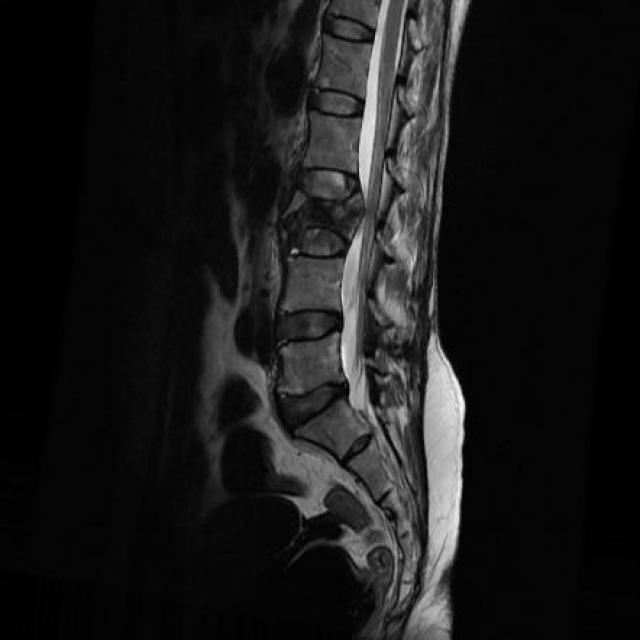Comminuted: (274, 158, 368, 264)
